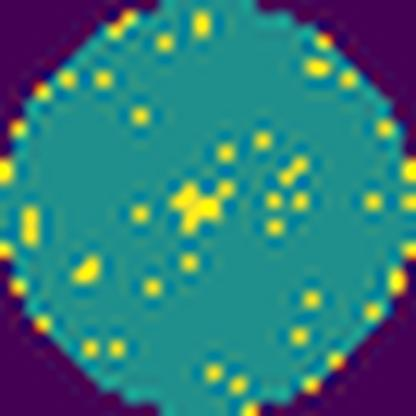Center: (170, 178, 230, 240)
